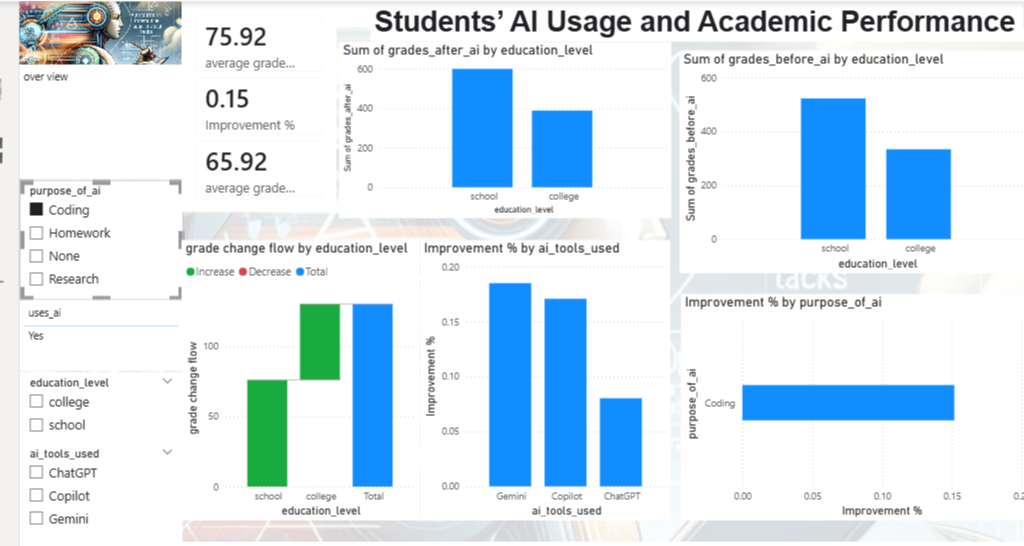

The page's visual inventory and layout, read from the dashboard file:
{"tool":"powerbi","page":{"name":"Page 1","canvas":[1280,720],"ordinal":0},"visuals":[{"type":"textbox","box":[442.2,0,836.7,50.9],"z":0},{"type":"image","box":[0,0,205.2,79.5],"z":1000},{"type":"columnChart","fields":{"Category":["students_ai_usage.education_level"],"Y":["Sum(students_ai_usage.grades_after_ai)"]},"box":[401.7,51.7,418.3,221.7],"z":2000},{"type":"slicer","fields":{"Values":["students_ai_usage.purpose_of_ai"]},"box":[0,224.3,205.2,152.7],"z":3000},{"type":"tableEx","fields":{"Values":["students_ai_usage.uses_ai"]},"box":[0,377,205.2,89.1],"z":4000},{"type":"slicer","fields":{"Values":["students_ai_usage.education_level"]},"box":[0,466,205.2,89.1],"z":5000},{"type":"slicer","fields":{"Values":["students_ai_usage.ai_tools_used"]},"box":[0,555.1,205.2,149.5],"z":6000},{"type":"textbox","box":[0,79.5,205.2,144.7],"z":7000},{"type":"columnChart","fields":{"Category":["students_ai_usage.education_level"],"Y":["Sum(students_ai_usage.grades_before_ai)"]},"box":[831.7,61.7,330,211.7],"z":8000},{"type":"cardVisual","fields":{"Data":["students_ai_usage.average grade after ai","students_ai_usage.improvement %","students_ai_usage.average grade before ai"]},"box":[205,0,195,265],"z":8001},{"type":"waterfallChart","fields":{"Y":["students_ai_usage.grade change flow"],"Category":["students_ai_usage.education_level"]},"box":[205,300,300,353.3],"z":8002},{"type":"clusteredColumnChart","fields":{"Category":["students_ai_usage.ai_tools_used"],"Y":["students_ai_usage.Improvement %"]},"box":[505,300,315,353],"z":8003},{"type":"clusteredBarChart","fields":{"Y":["students_ai_usage.Improvement %"],"Category":["students_ai_usage.purpose_of_ai"]},"box":[831.7,300,446.7,195],"z":8004},{"type":"donutChart","fields":{"Category":["students_ai_usage.uses_ai"]},"box":[832,495,447,158],"z":8005}]}

Visuals, with their boxes on the page's 1280x720 design canvas (x1, y1, x2, y2). These are canvas units, not pixel positions in the 1024x546 screenshot, which may show the page scaled, cropped or inside an application window:
textbox: BBox(442, 0, 1279, 51)
image: BBox(0, 0, 205, 80)
columnChart - students_ai_usage.education_level x Sum(students_ai_usage.grades_after_ai): BBox(402, 52, 820, 273)
slicer - students_ai_usage.purpose_of_ai: BBox(0, 224, 205, 377)
tableEx - students_ai_usage.uses_ai: BBox(0, 377, 205, 466)
slicer - students_ai_usage.education_level: BBox(0, 466, 205, 555)
slicer - students_ai_usage.ai_tools_used: BBox(0, 555, 205, 705)
textbox: BBox(0, 80, 205, 224)
columnChart - students_ai_usage.education_level x Sum(students_ai_usage.grades_before_ai): BBox(832, 62, 1162, 273)
cardVisual - students_ai_usage.average grade after ai x students_ai_usage.improvement %: BBox(205, 0, 400, 265)
waterfallChart - students_ai_usage.grade change flow x students_ai_usage.education_level: BBox(205, 300, 505, 653)
clusteredColumnChart - students_ai_usage.ai_tools_used x students_ai_usage.Improvement %: BBox(505, 300, 820, 653)
clusteredBarChart - students_ai_usage.Improvement % x students_ai_usage.purpose_of_ai: BBox(832, 300, 1278, 495)
donutChart - students_ai_usage.uses_ai: BBox(832, 495, 1279, 653)
